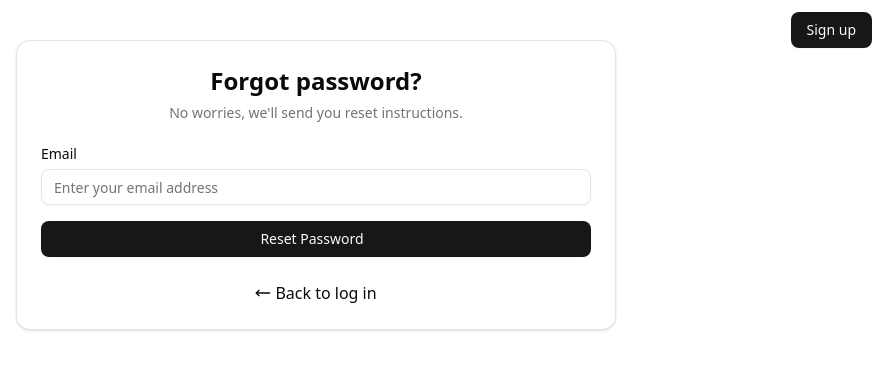
Test: Test Forgot Password Form component for SUCCESS response › should render error message when empty email is provided
# click forgot password button
Click the button with test id "button-submit". click: x=316, y=239
box: [41,221,591,257]
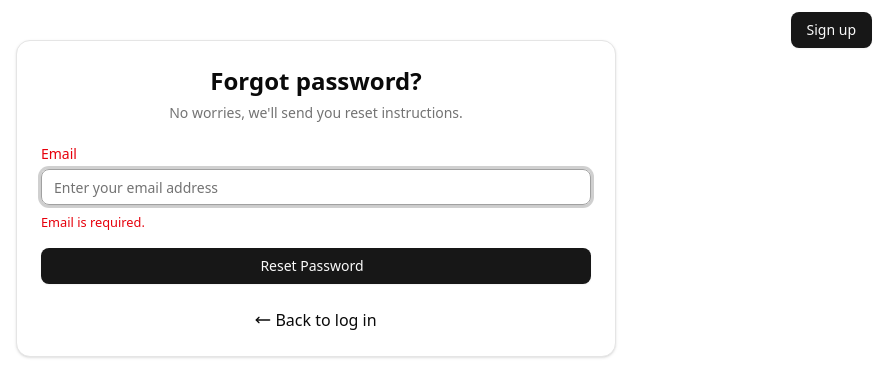
Check: the text "Email is required." is shown, box [41,213,145,231]
